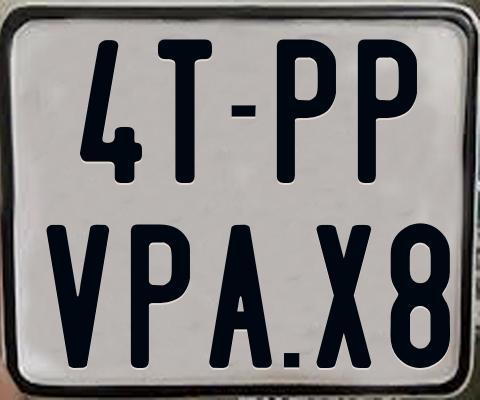4: (78, 39, 145, 187)
8: (387, 222, 452, 367)
A: (206, 225, 270, 371)
P: (276, 36, 340, 182), (128, 222, 189, 370), (356, 36, 415, 184)
T: (155, 39, 215, 186)
V: (46, 224, 113, 373)
X: (316, 223, 371, 372)
